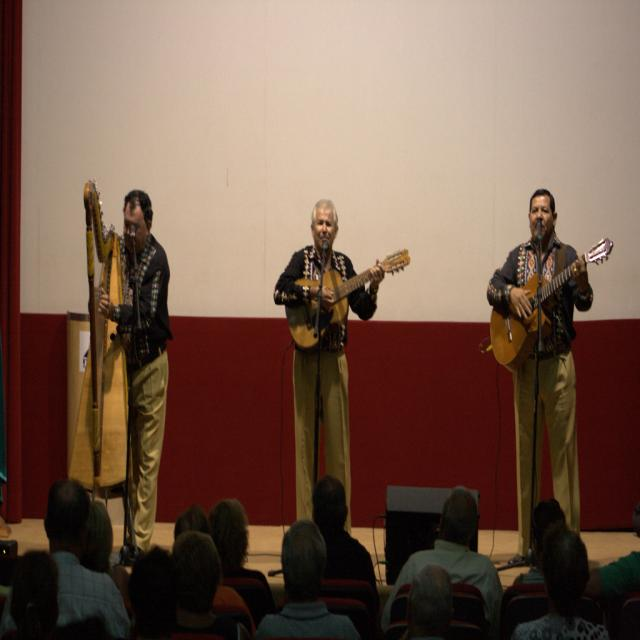guitar: (488, 235, 614, 374), (284, 243, 411, 354)
harp: (64, 178, 134, 501)
